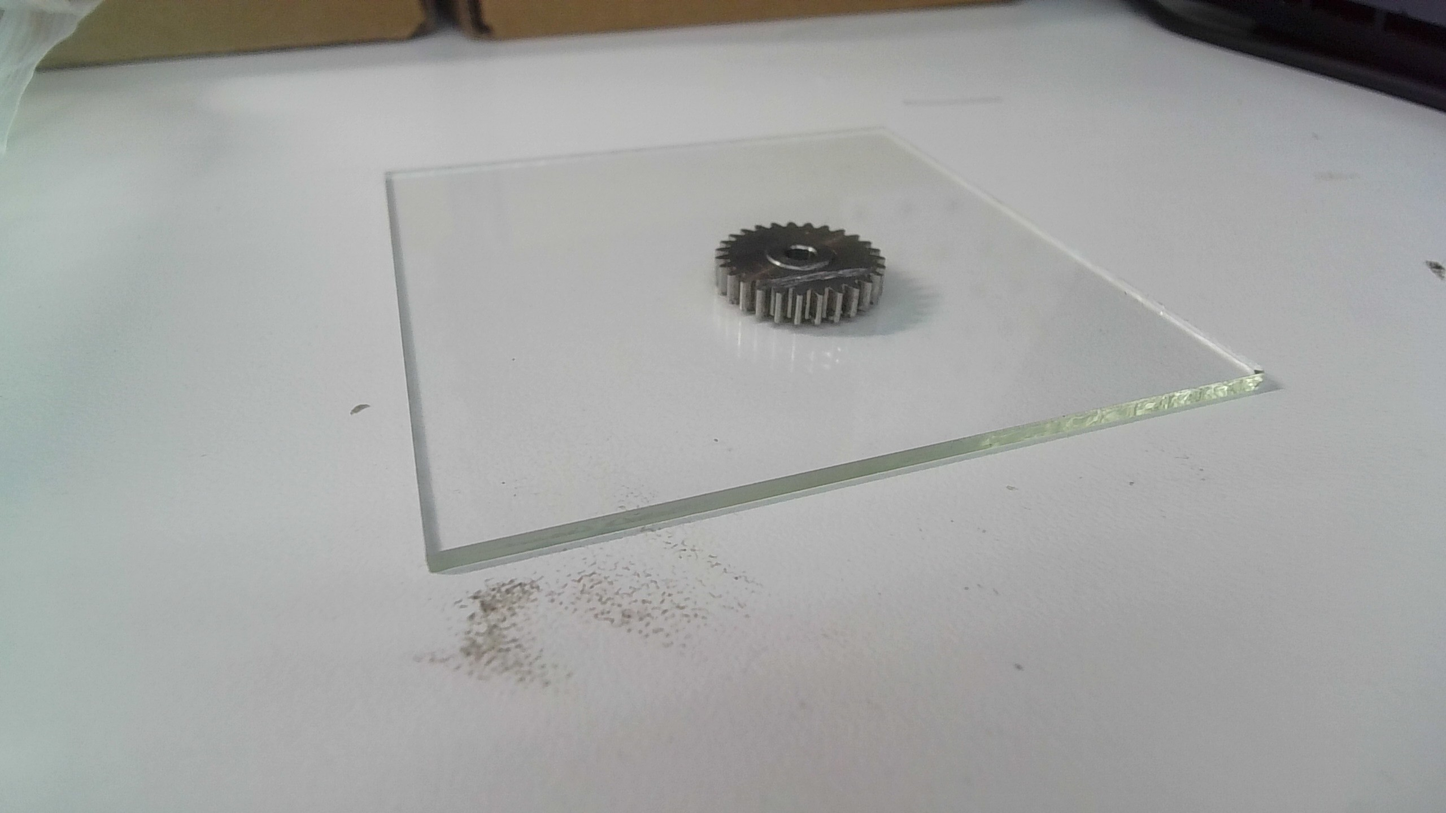gear: (711, 220, 888, 330)
